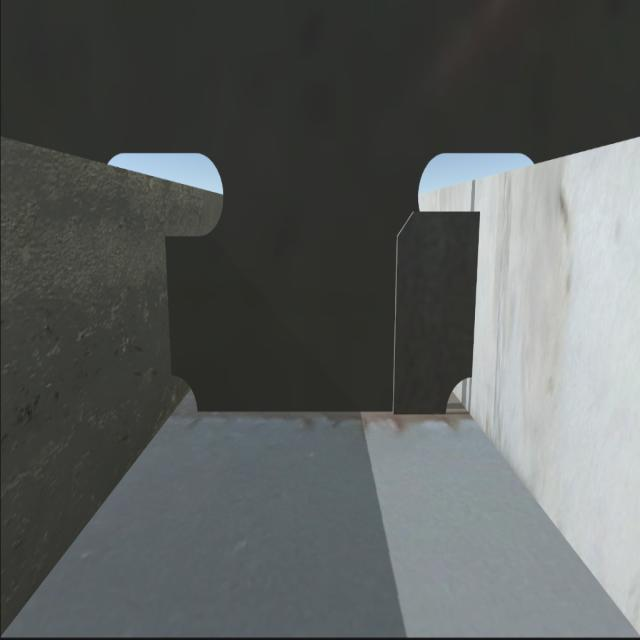fillet_hole: (167, 370, 201, 412), (448, 379, 477, 413)
fillet_yong_jeop_jang: (201, 411, 449, 419)
longi_yong_jeop_jang: (464, 213, 480, 377), (162, 240, 177, 367)
plate_CP03: (389, 214, 474, 408)
